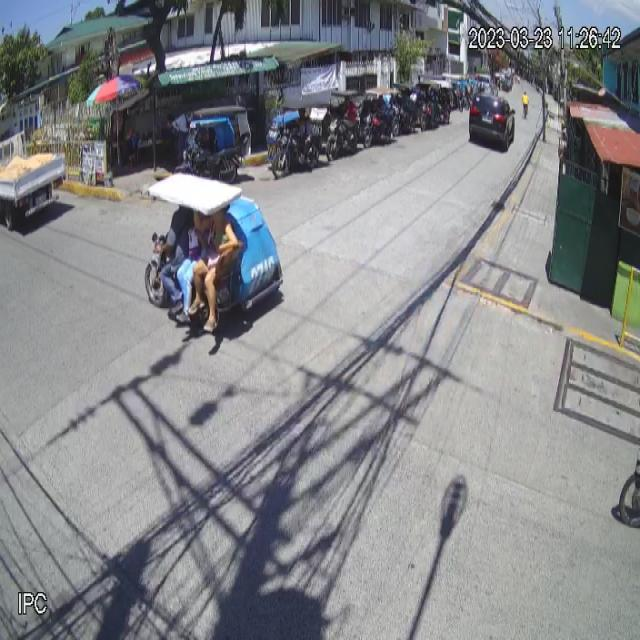Tricycle: (145, 170, 284, 339)
